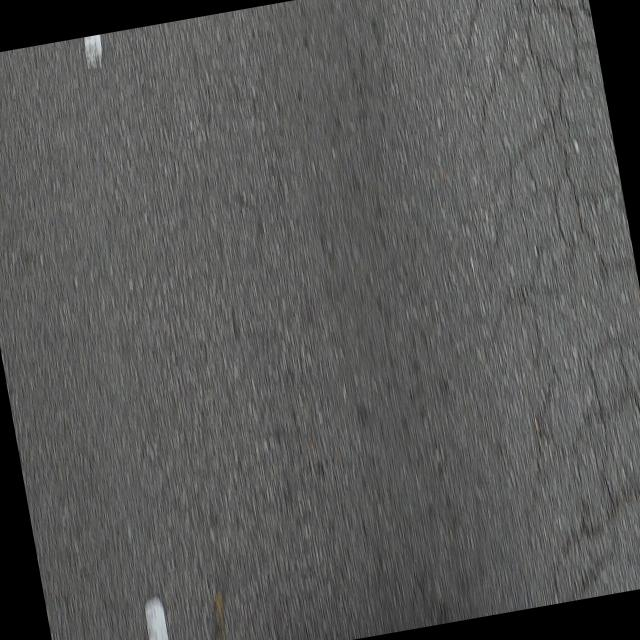Retak-Buaya: (458, 0, 640, 601)
